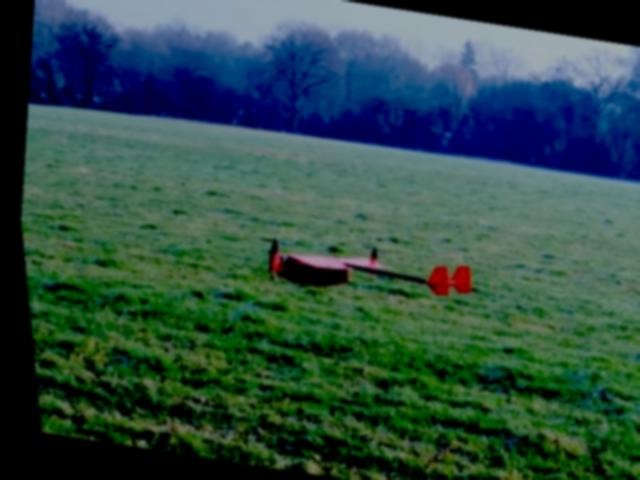uav: (252, 230, 474, 312)
